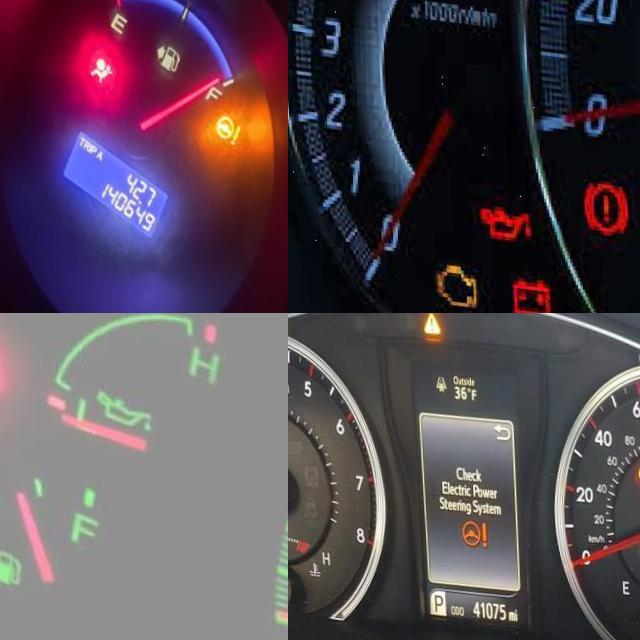Electronic Power Steering: (210, 99, 239, 135), (456, 508, 484, 541), (632, 452, 640, 472)
Low fuel level: (0, 537, 17, 582)
